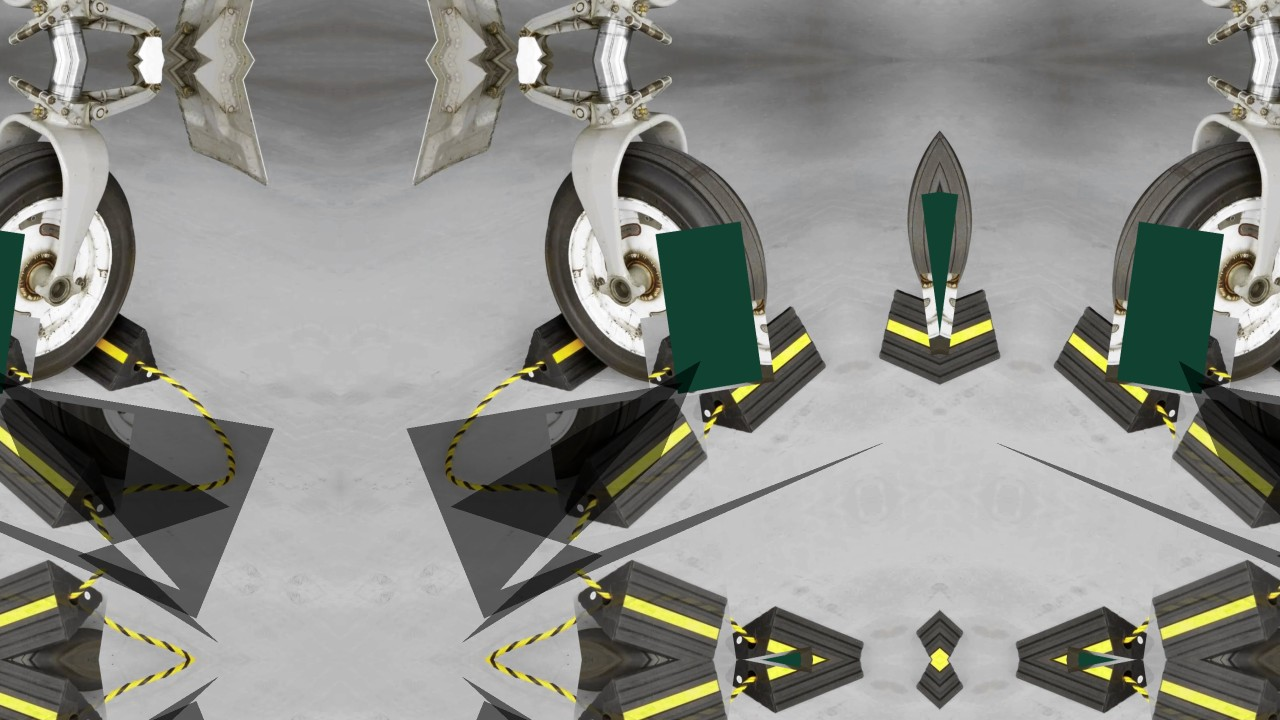chock: (546, 388, 716, 541), (676, 299, 834, 445), (1046, 299, 1204, 445), (0, 388, 134, 541), (569, 543, 737, 660), (13, 280, 171, 402), (509, 280, 667, 402), (1164, 388, 1280, 541), (1143, 543, 1280, 660), (640, 297, 775, 403), (1105, 297, 1240, 403), (0, 543, 111, 660), (717, 590, 873, 660), (1007, 590, 1163, 660), (569, 660, 737, 720), (870, 269, 940, 411), (940, 269, 1010, 411), (717, 660, 873, 720), (1007, 660, 1163, 720), (1143, 660, 1280, 720), (1213, 280, 1280, 402), (0, 660, 111, 720), (0, 297, 40, 403)
wheel: (529, 121, 776, 405), (1104, 121, 1280, 405), (0, 121, 151, 405)
